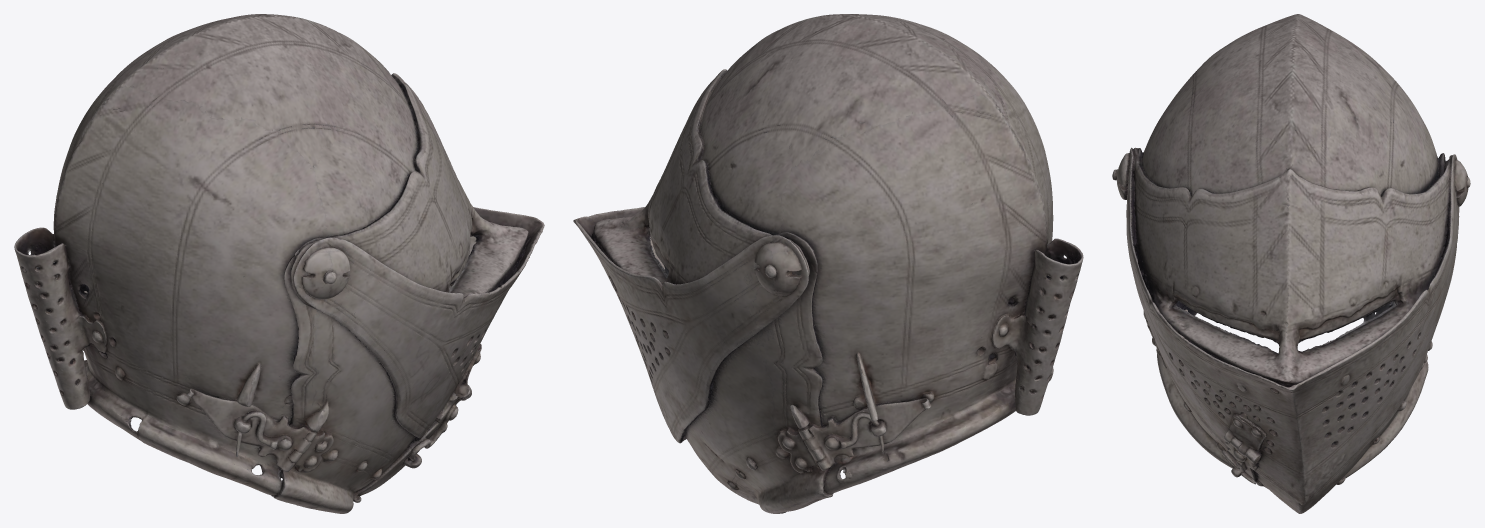
The model's file is jousting_helmet-transformed.glb.
3 views of the same model, side by side, from view 1: azimuth 30°, elevation 25°; view 2: azimuth 150°, elevation 25°; view 3: azimuth 270°, elevation 25° (orthographic). The views are drawn at different scales.
Visible parts, largest first — view 1: Object_2; view 2: Object_2; view 3: Object_2.
Part boxes in pixels (x1,y1,x2,y2): Object_2: [14, 14, 544, 513]; Object_2: [573, 14, 1083, 513]; Object_2: [1112, 14, 1470, 513].
Size of the model in its own units: 1.09 by 1.02 by 0.7728.
1 material, 1 textured.
